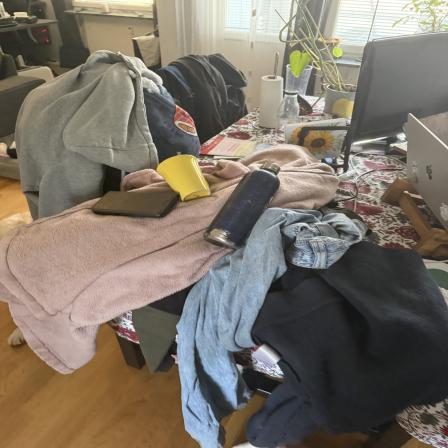blue_bottle: (212, 164, 274, 247)
phone: (92, 190, 181, 219)
yellow_cup: (152, 155, 212, 202)
